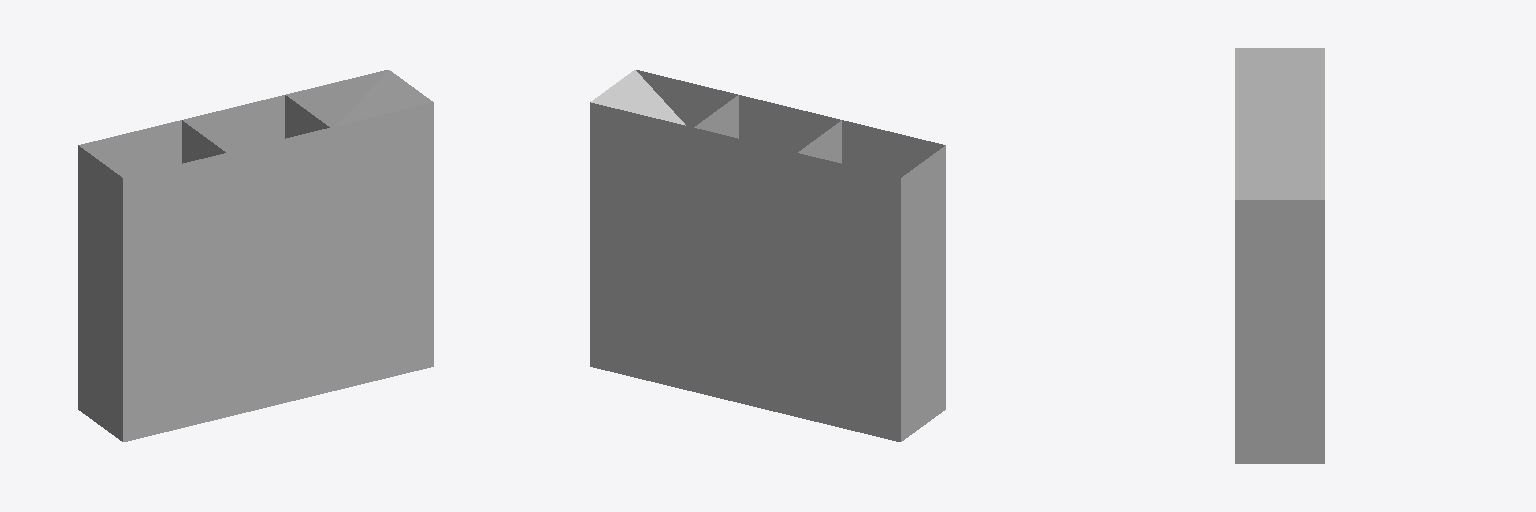
File: 3d_Tanaris-Pond 02.wlw.obj
3 renders of one model, left to right at view 1: azimuth 30°, elevation 25°; view 2: azimuth 150°, elevation 25°; view 3: azimuth 270°, elevation 25°, orthographic.
Size of the model in its own units: 39.9 by 32.46 by 10.